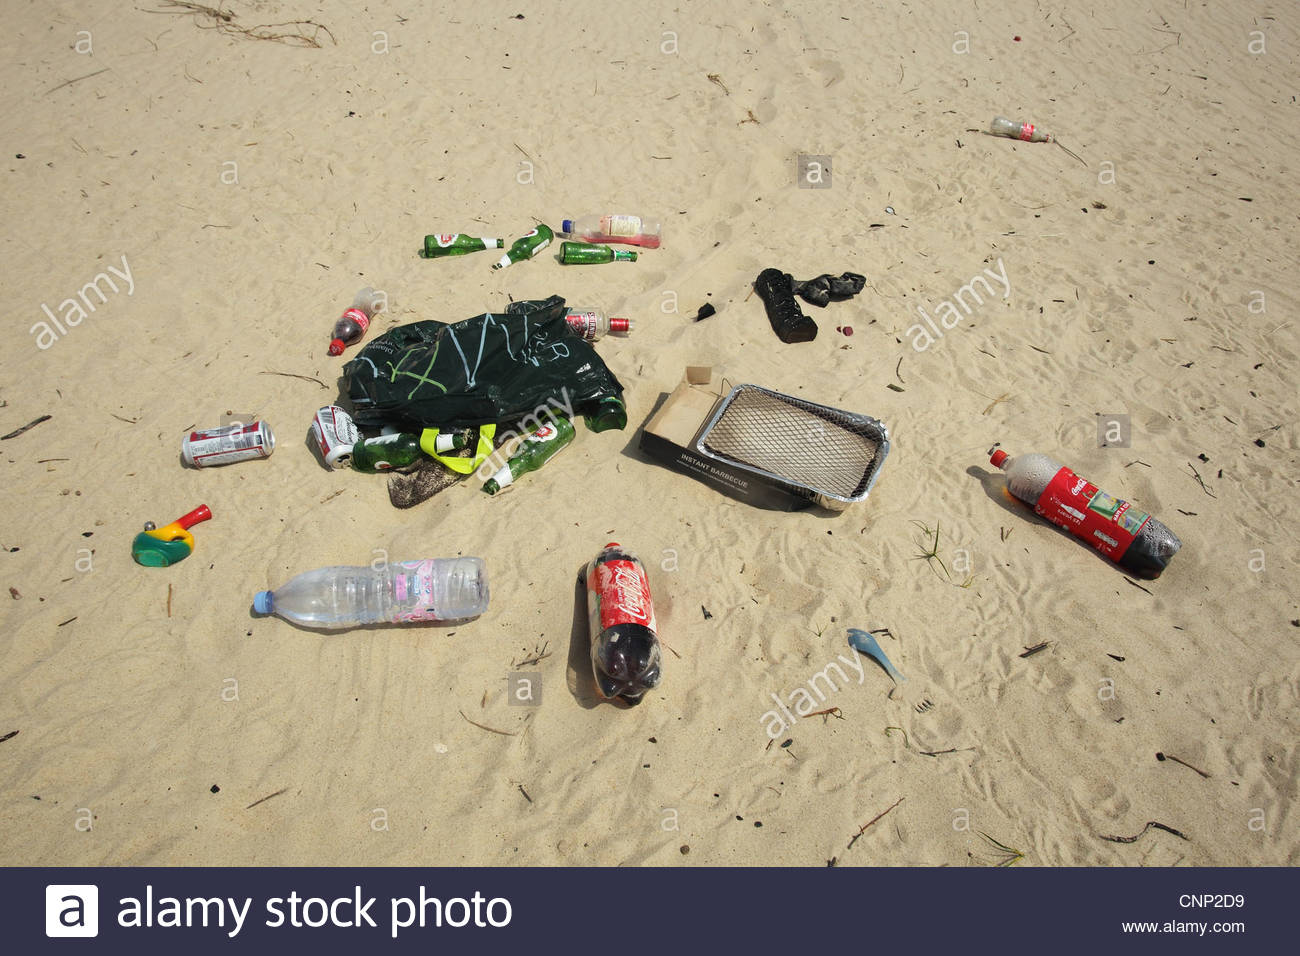bottle: (548, 233, 644, 276), (418, 225, 507, 265), (501, 219, 560, 278)
can: (181, 423, 279, 472)
plastic_bottle: (975, 432, 1189, 590), (243, 556, 496, 637), (577, 532, 660, 715), (322, 275, 378, 362)
